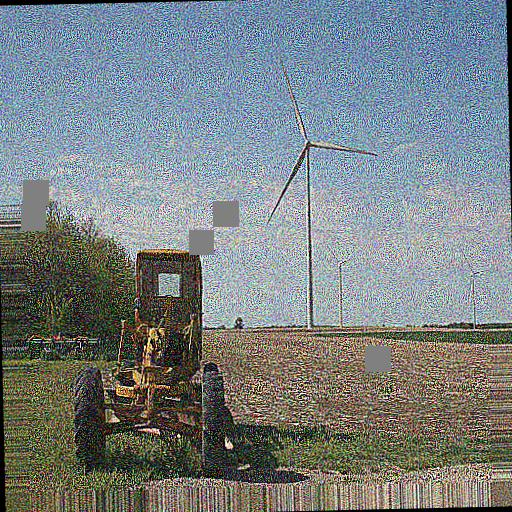wind turbine: (263, 59, 381, 321)
